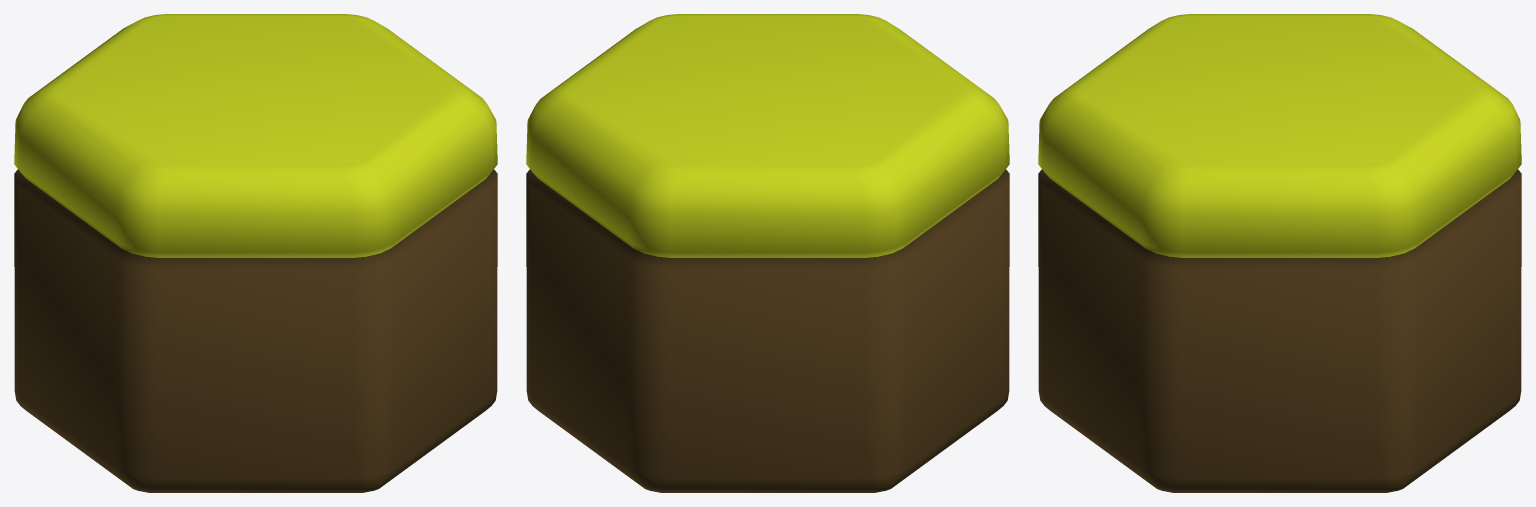
Rendered from hex_tile.fbx.
3 renders of one model, left to right at view 1: azimuth 30°, elevation 25°; view 2: azimuth 150°, elevation 25°; view 3: azimuth 270°, elevation 25°, orthographic.
Parts seen in each view (by area): view 1: hex_tile; view 2: hex_tile; view 3: hex_tile.
Boxes of the visible parts, x1,y1,x2,y2 form: hex_tile: [14, 14, 497, 492]; hex_tile: [526, 14, 1009, 492]; hex_tile: [1038, 14, 1521, 492].
Size of the model in its own units: 240 by 195 by 268.
